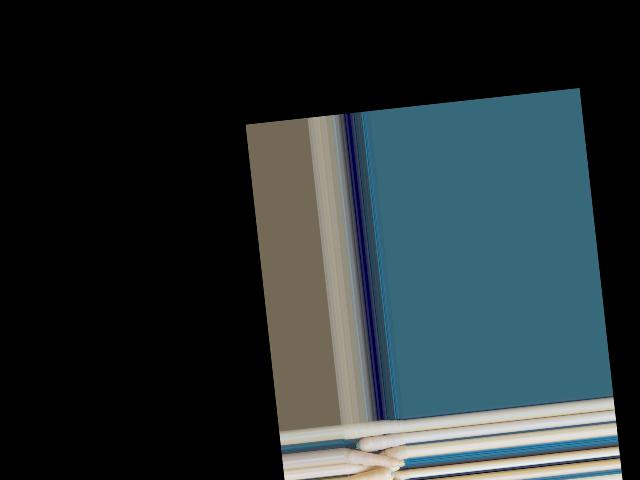carrot: (343, 418, 406, 439)
